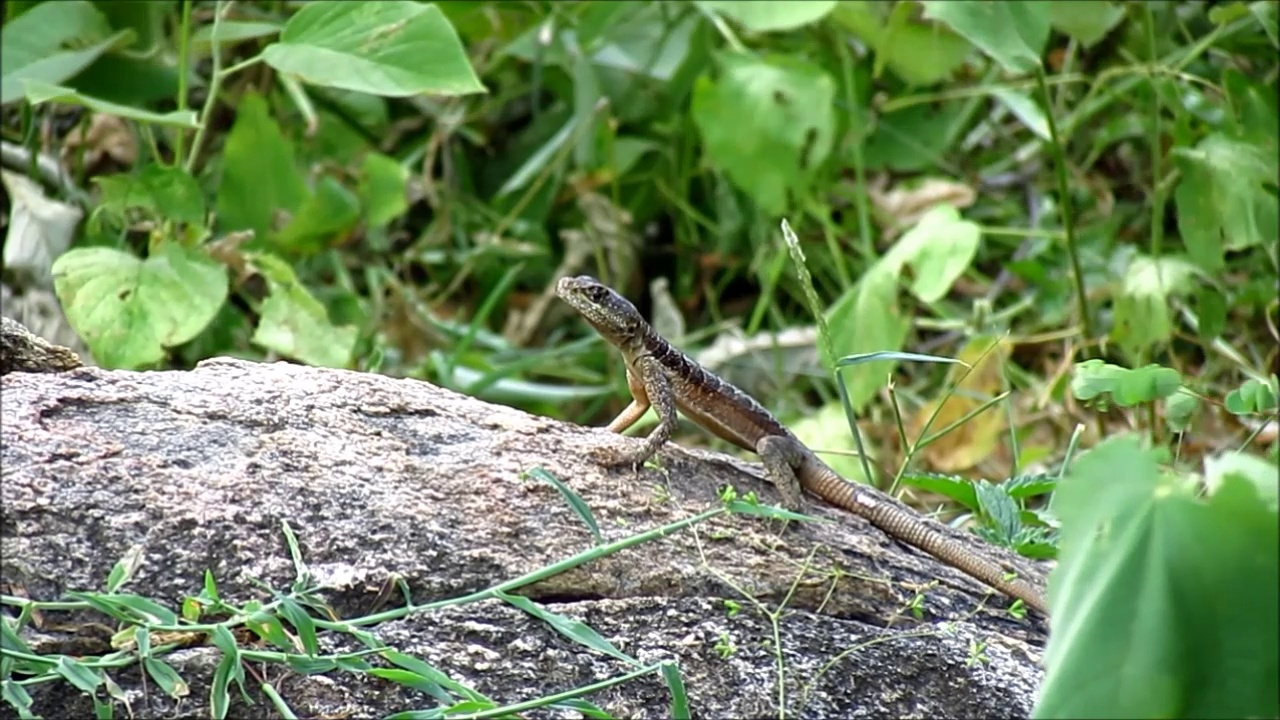body: (592, 313, 1050, 616)
head: (556, 274, 638, 340)
